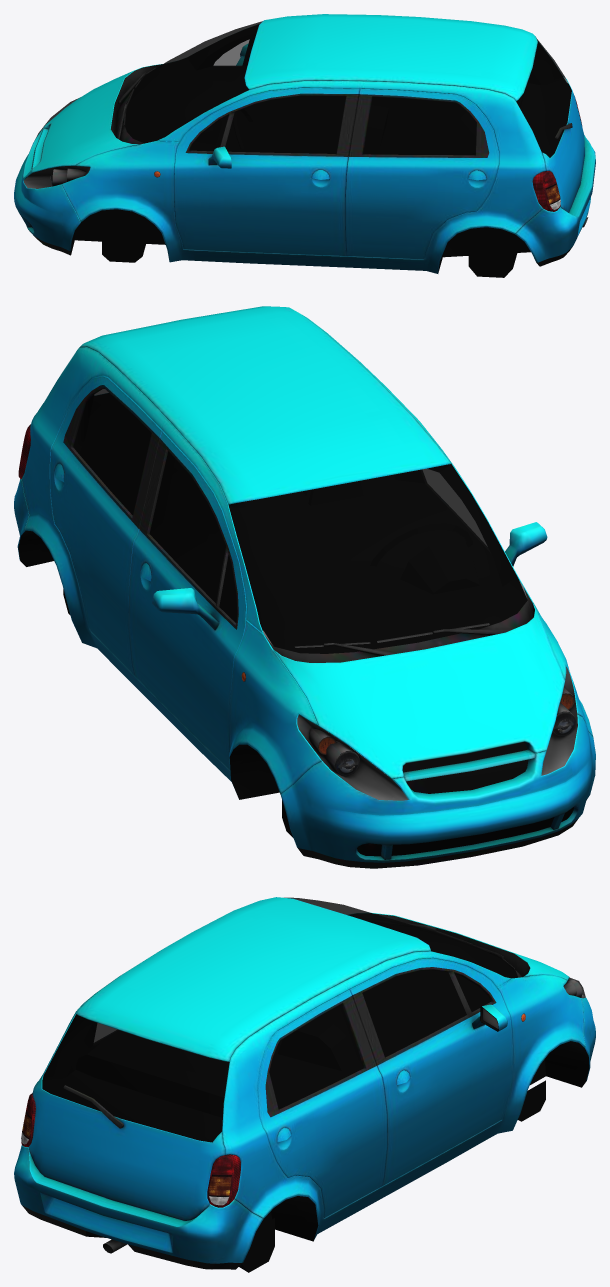
Rendered from arac_paket_0.glb.
3 views of the same model, one above another, from view 1: azimuth 30°, elevation 25°; view 2: azimuth 150°, elevation 25°; view 3: azimuth 270°, elevation 25° (orthographic). The views are drawn at different scales.
Visible parts, largest first — view 1: Compact Body_Body_0; view 2: Compact Body_Body_0; view 3: Compact Body_Body_0.
Part boxes in pixels (x1,y1,x2,y2): Compact Body_Body_0: (14,14,595,277); Compact Body_Body_0: (14,306,595,868); Compact Body_Body_0: (14,897,595,1272).
Size of the model in its own units: 4.97 by 1.94 by 4.3.
3 materials, 2 textured.
